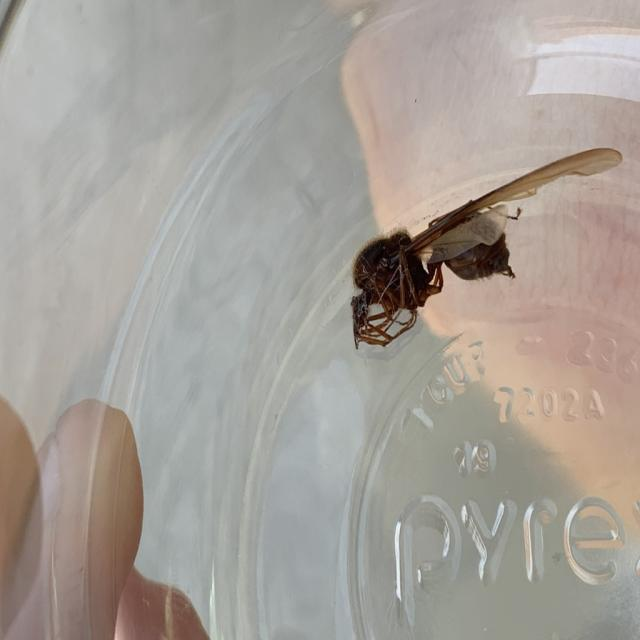Dead-Male-Alate: (350, 148, 624, 352)
